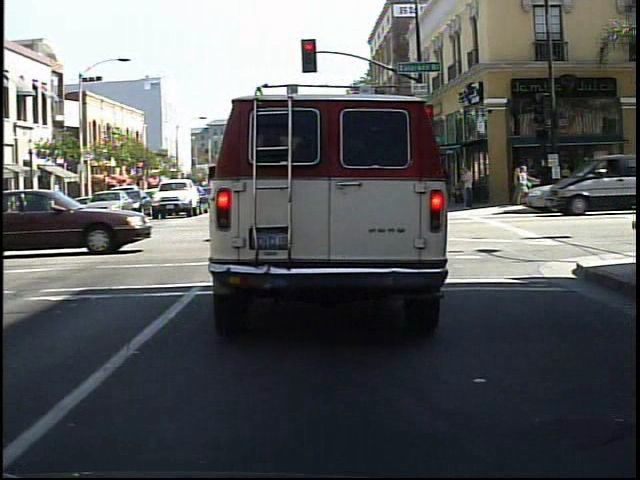person: (536, 155, 557, 211), (511, 163, 531, 208)
